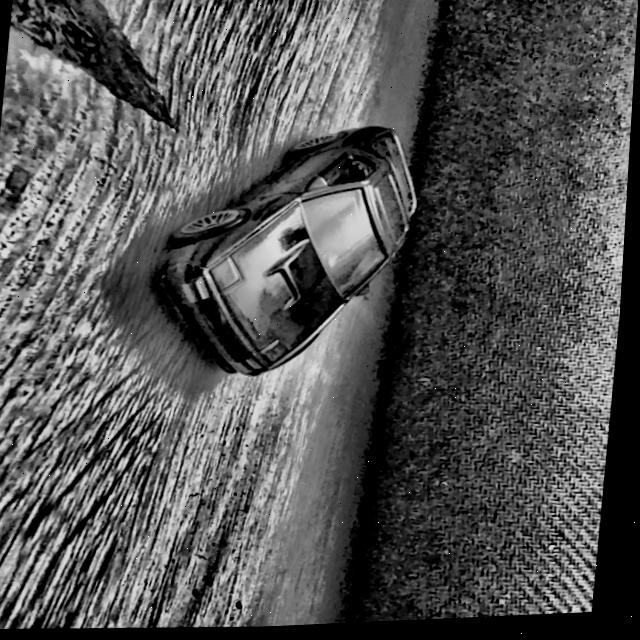car: (150, 120, 427, 388)
